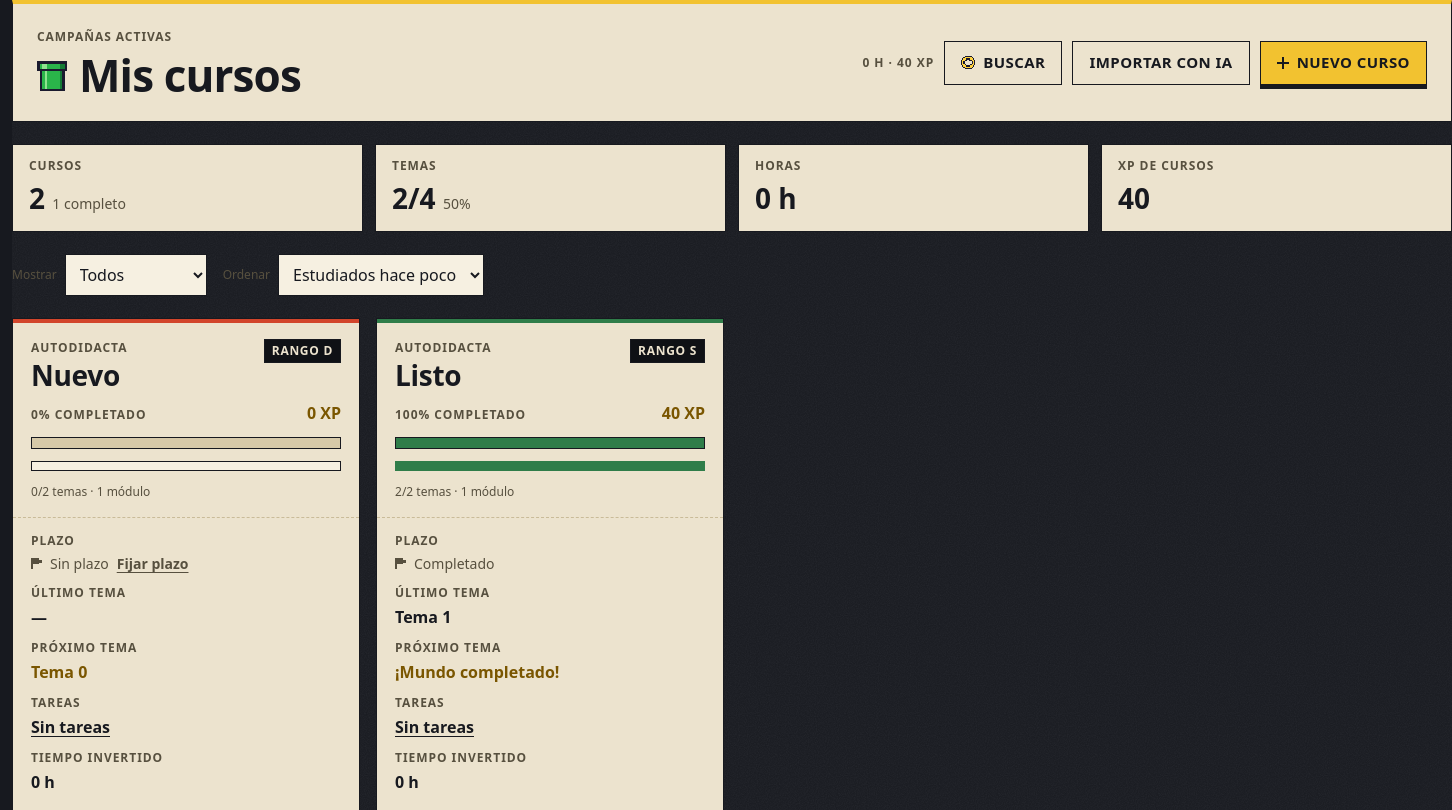
Test case: Cursos › si el filtro no deja ninguno, lo dice y «Quitar filtros» devuelve todos
Select "En curso" in the dropdown named "Filtrar cursos por estado": (136, 275) [65,254,207,296]
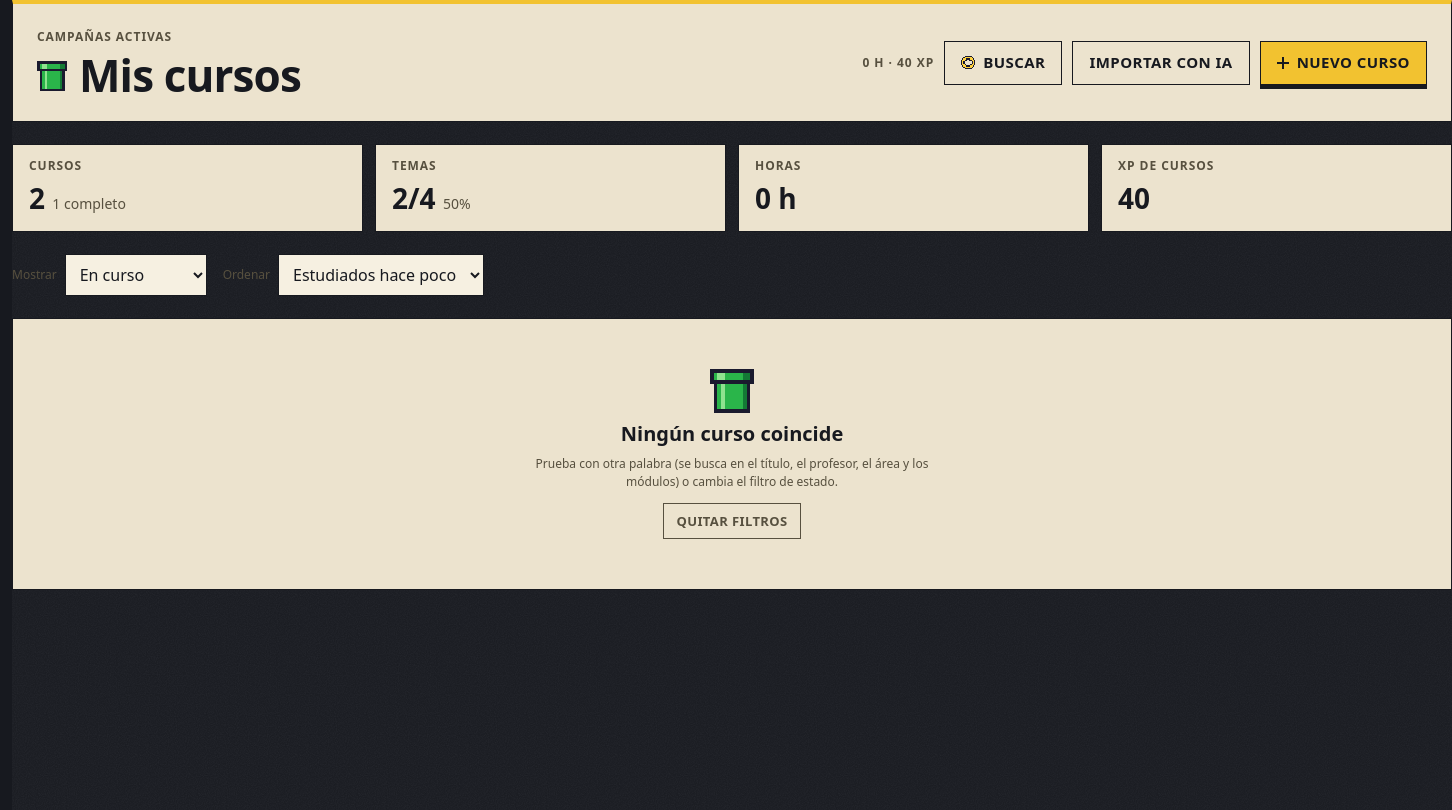
Result: the text "Ningún curso coincide" is shown at [621,423,843,445]
Click the button "Quitar filtros": (732, 521) [663,503,800,539]
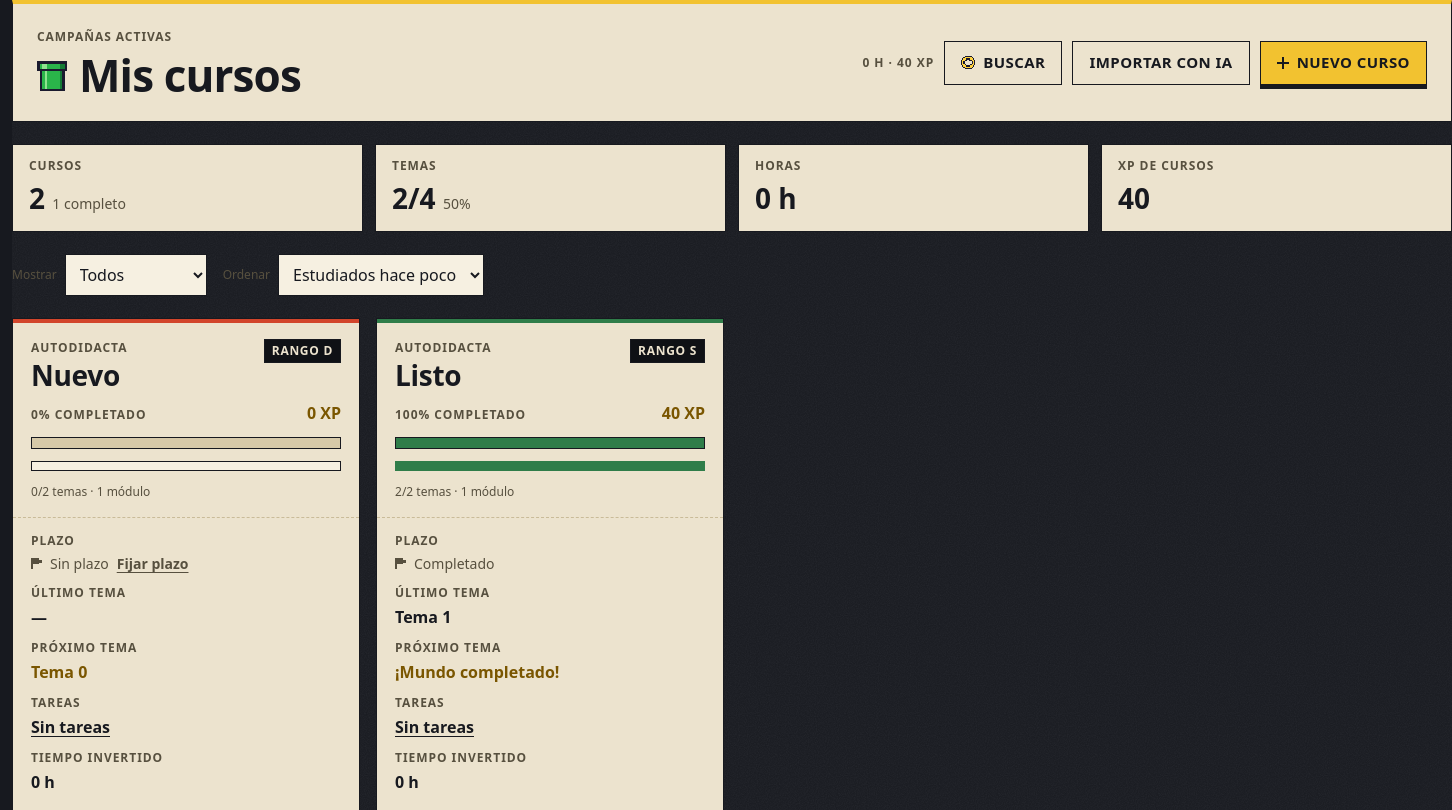
Result: the heading "Nuevo" is shown at [31,361,127,389]
Result: the heading "Listo" is shown at [395,356,461,394]
